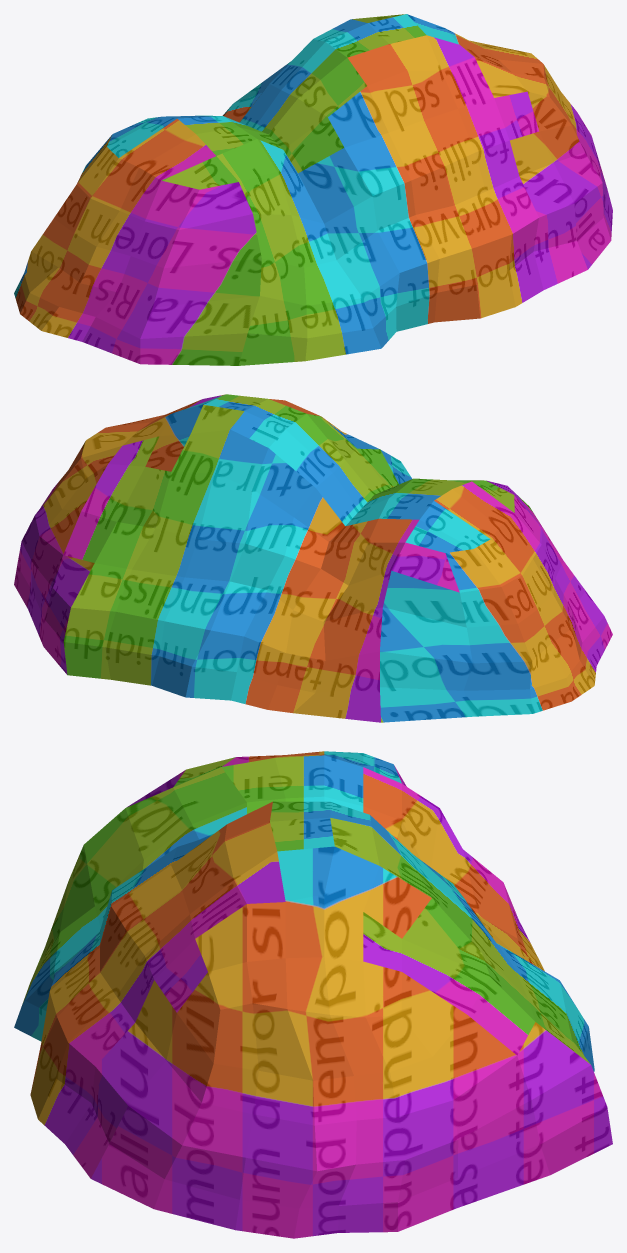
The model's file is SM_Mountain_3.fbx.
3 renders of one model, top to bottom at view 1: azimuth 30°, elevation 25°; view 2: azimuth 150°, elevation 25°; view 3: azimuth 270°, elevation 25°, orthographic. The views are drawn at different scales.
Parts seen in each view (by area): view 1: SM_Mountain_3; view 2: SM_Mountain_3; view 3: SM_Mountain_3.
Part boxes in pixels (left/top/right/bottom): SM_Mountain_3: left=14, top=14, right=612, bottom=365; SM_Mountain_3: left=14, top=394, right=612, bottom=722; SM_Mountain_3: left=14, top=751, right=612, bottom=1238.
Size of the model in its own units: 218 by 77.8 by 152.
1 material, 1 textured.
